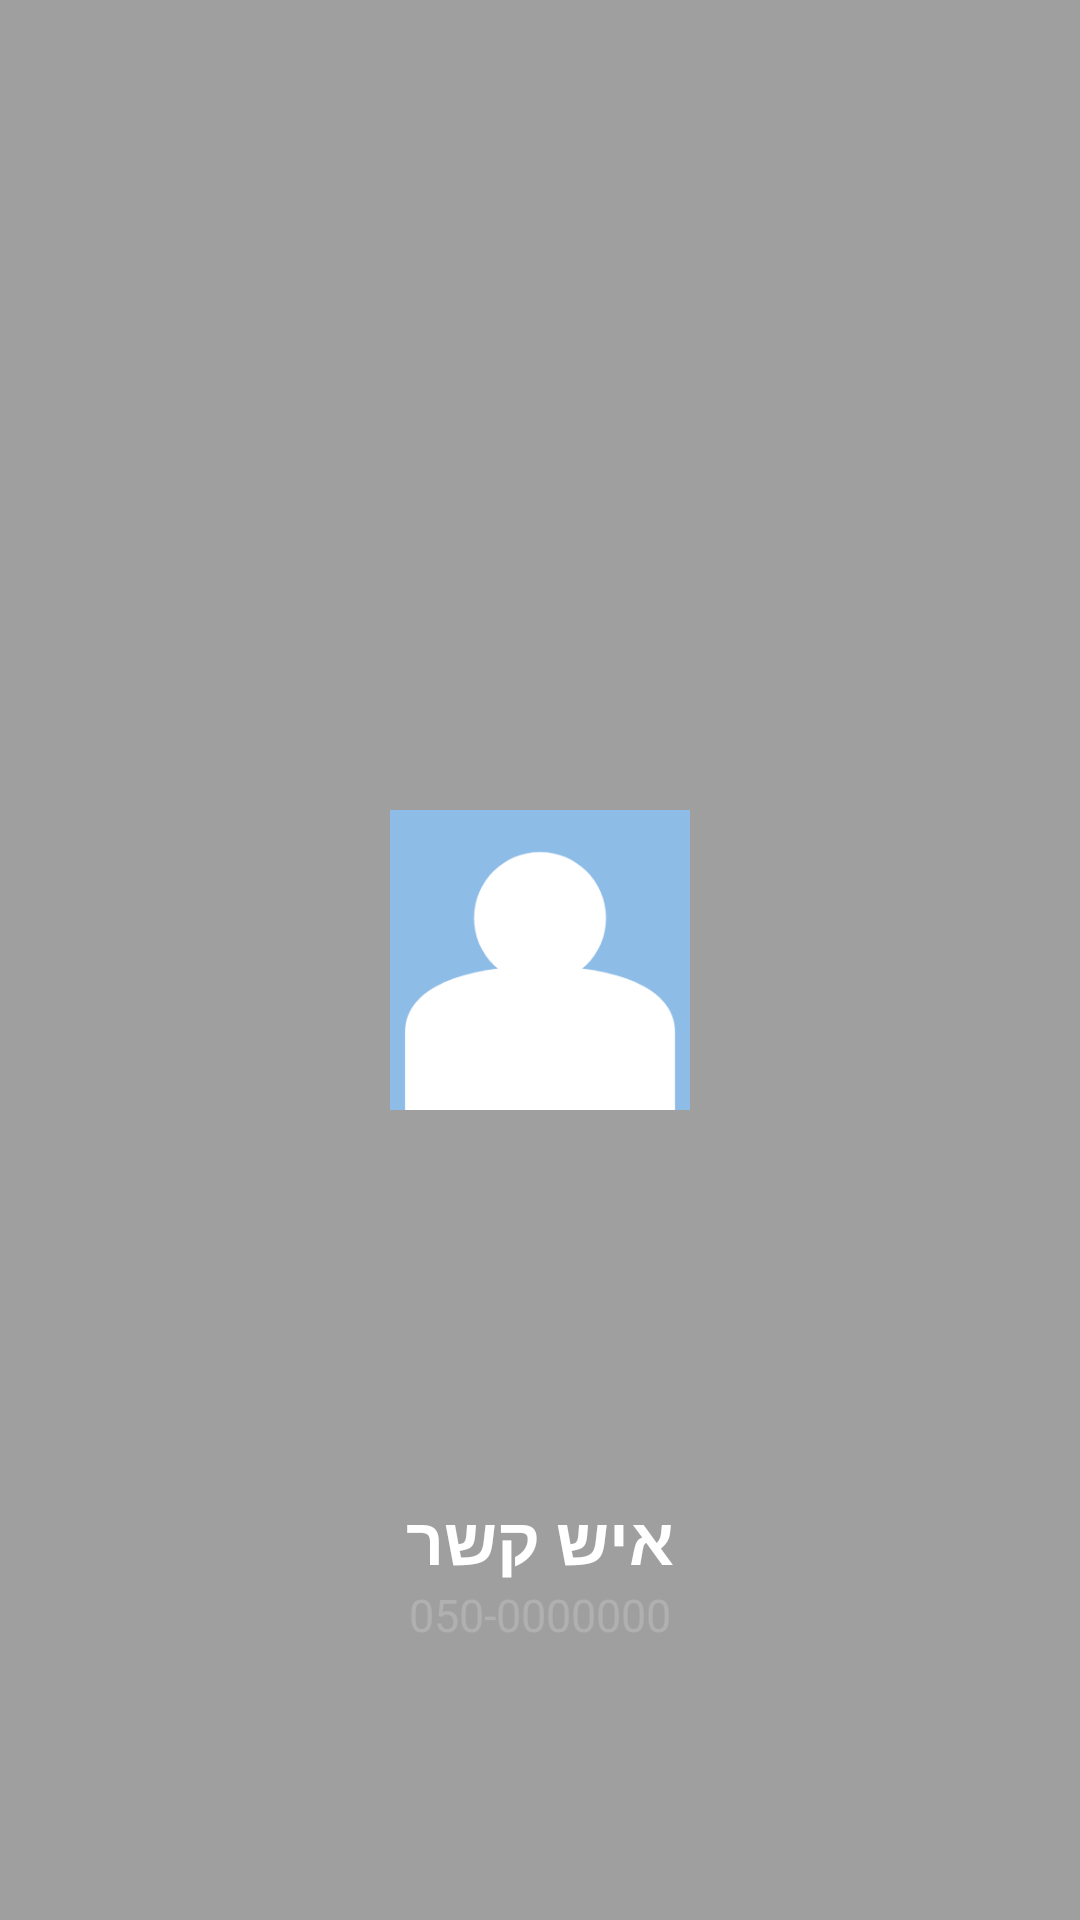

Icons on this 1080 x 1920 Android screen, each with its box as (x1, y1, x2, y2):
person: (390, 810, 690, 1110)
